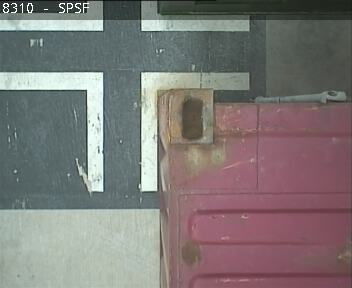groundmarker_1: (1, 68, 250, 191), (1, 1, 248, 32)
